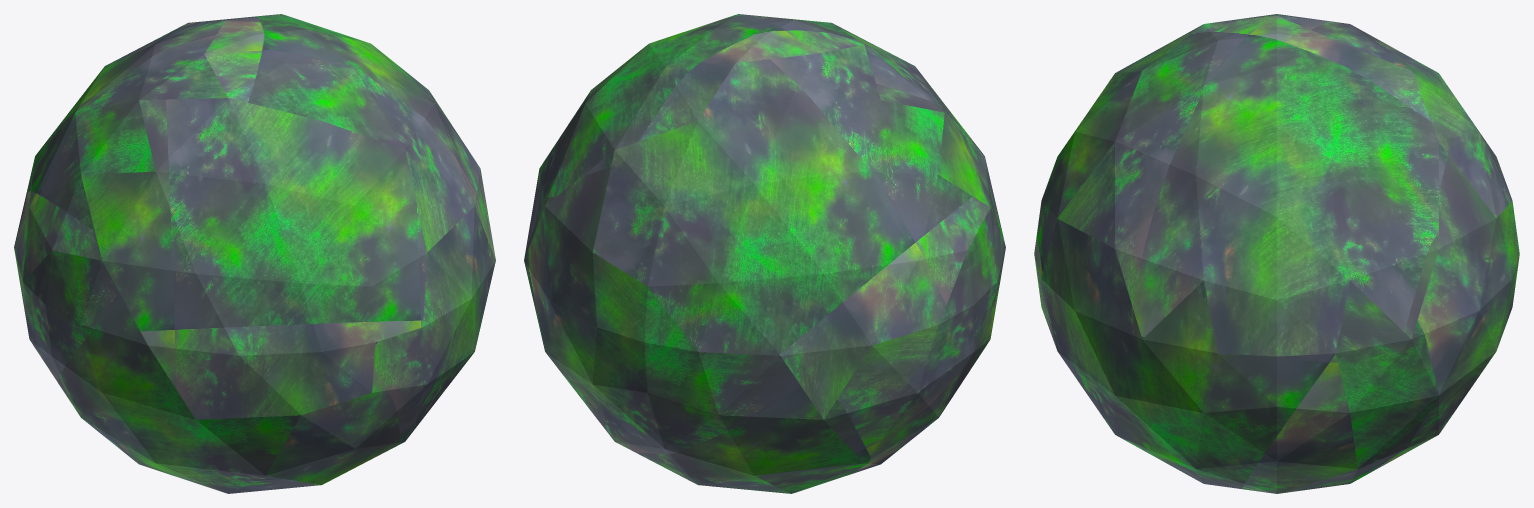
Rendered from ico1.glb.
The picture shows the model from 3 angles, left to right: view 1: azimuth 30°, elevation 25°; view 2: azimuth 150°, elevation 25°; view 3: azimuth 270°, elevation 25°; orthographic projection.
Visible parts, largest first — view 1: GD_mesh; view 2: GD_mesh; view 3: GD_mesh.
Part boxes in pixels (x1,y1,x2,y2): GD_mesh: [14, 14, 495, 493]; GD_mesh: [524, 14, 1005, 493]; GD_mesh: [1034, 14, 1519, 493].
Size of the model in its own units: 2.3 by 2.3 by 2.3.
1 material, 1 textured.
